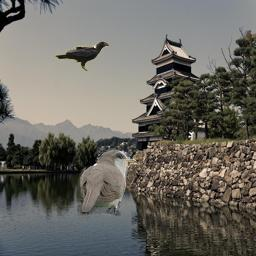Crow: (55, 41, 109, 71)
Cuckoo: (77, 150, 137, 216)
